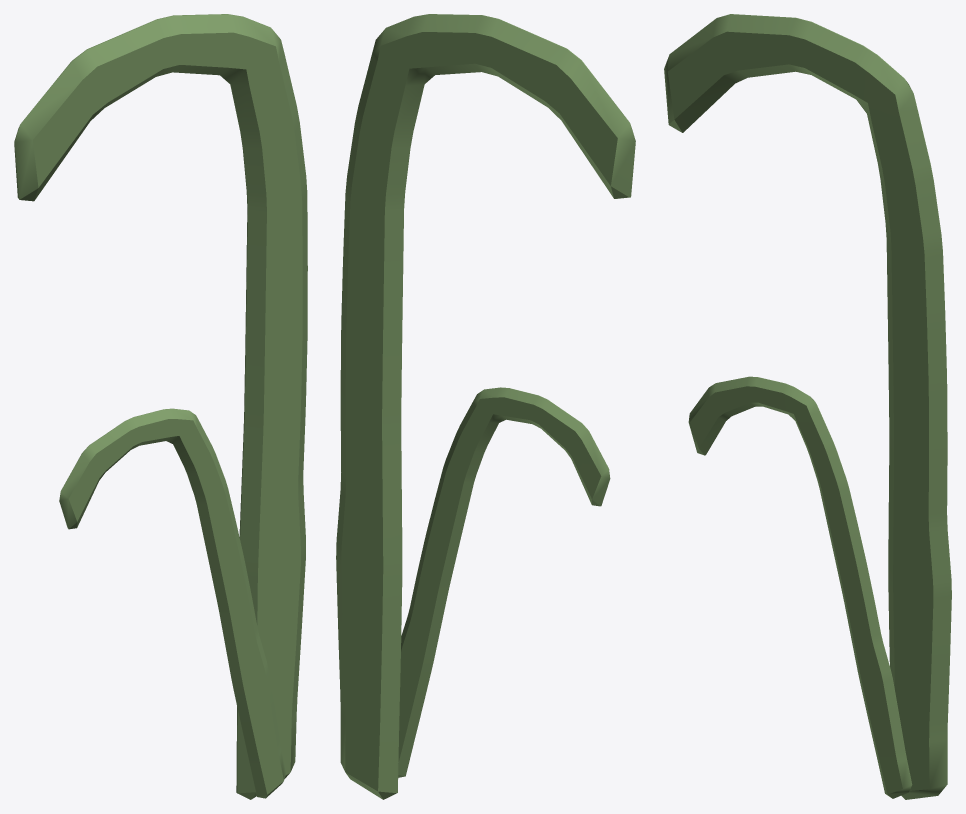
Rendered from blueflowerstalk.fbx.
The picture shows the model from 3 angles, left to right: view 1: azimuth 30°, elevation 25°; view 2: azimuth 150°, elevation 25°; view 3: azimuth 330°, elevation 25°; orthographic projection. The views are drawn at different scales.
Visible parts, largest first — view 1: polySurface1, pasted__polySurface1; view 2: polySurface1, pasted__polySurface1; view 3: polySurface1, pasted__polySurface1.
Boxes of the visible parts, x1,y1,x2,y2 form: polySurface1: [14, 14, 307, 799]; pasted__polySurface1: [59, 408, 285, 798]; polySurface1: [336, 14, 635, 799]; pasted__polySurface1: [398, 387, 610, 777]; polySurface1: [664, 14, 951, 799]; pasted__polySurface1: [688, 376, 912, 798].
Size of the model in its own units: 0.9128 by 2.38 by 0.1682.
